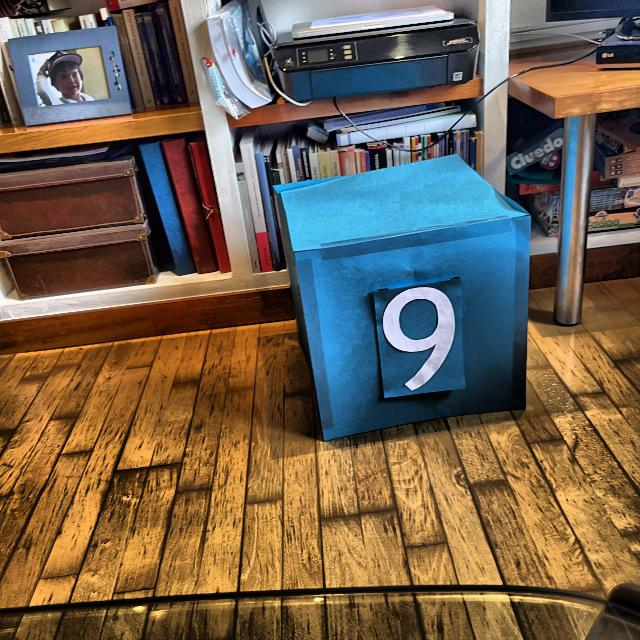blue box: (270, 151, 534, 445)
nine: (378, 282, 462, 393)
